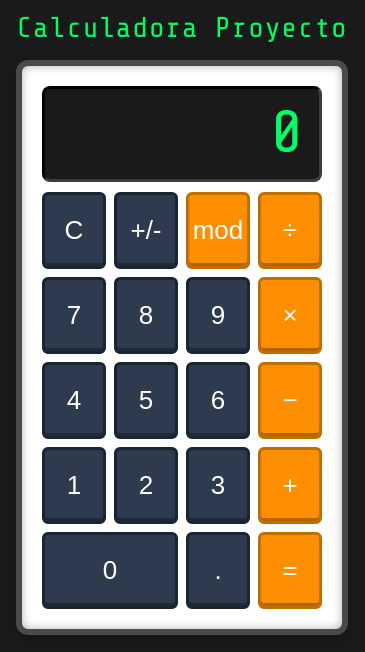
Test: Calculator Additional Functional Tests (Selectors Fixed) › should perform division 8 ÷ 2 = 4
This screenshot has width=365, height=652.
What coordinates should you click on to do the following:
click the button "8"
I would click on:
 (146, 315)
Its box is [114, 276, 178, 354].
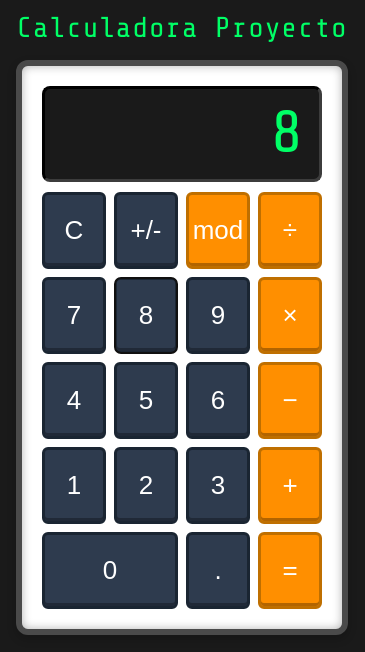
What coordinates should you click on to do the following:
click the button "÷"
I would click on:
 (290, 230)
Its box is [258, 192, 322, 268].
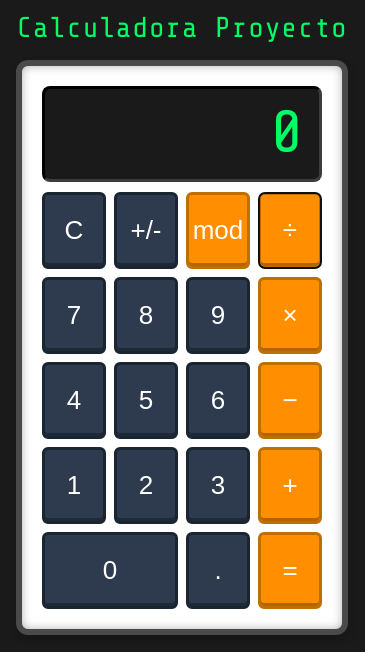
What coordinates should you click on to do the following:
click the button "2"
I would click on:
 (146, 485)
Its box is [114, 446, 178, 524].
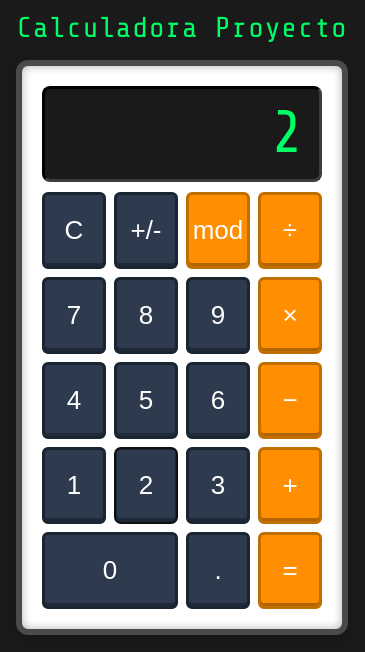
What coordinates should you click on to do the following:
click the button "="
I would click on:
 (290, 570)
Its box is [258, 532, 322, 608].
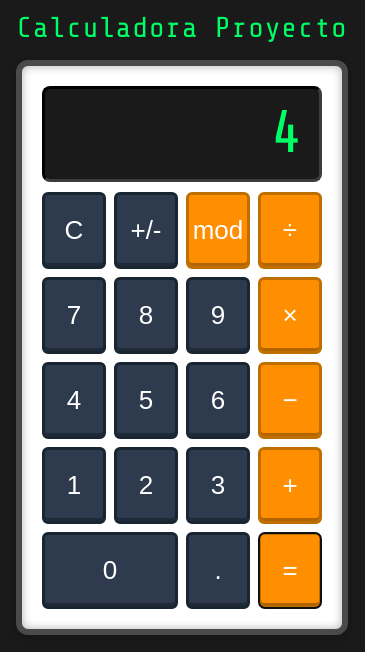
Now the text with test id "display" reads "4", box [271, 98, 303, 166]
